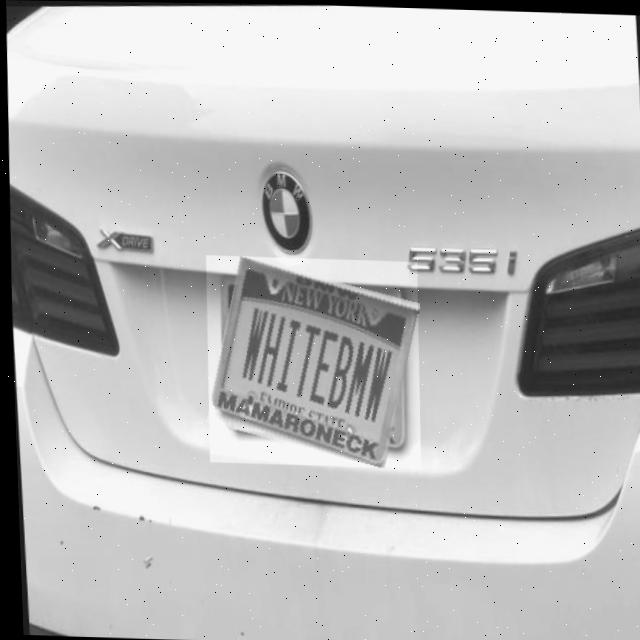LicensePlate: (206, 255, 415, 466)
